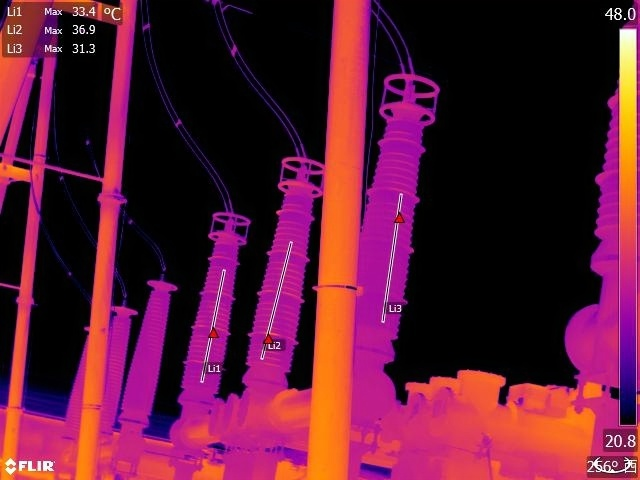tube: (355, 45, 438, 383), (240, 132, 327, 389), (179, 195, 263, 403), (584, 87, 640, 302), (119, 274, 182, 434), (57, 325, 94, 443), (103, 297, 135, 432)
